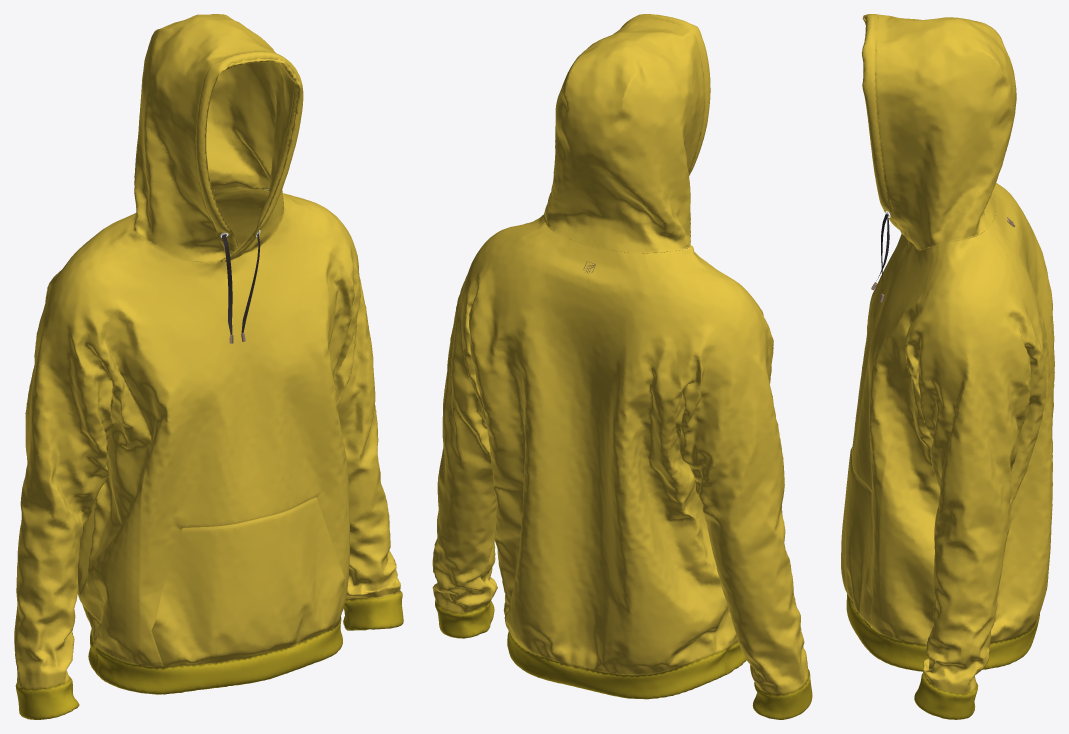
Rendered from hoodie.glb.
The picture shows the model from 3 angles, left to right: view 1: azimuth 30°, elevation 25°; view 2: azimuth 150°, elevation 25°; view 3: azimuth 270°, elevation 25°; orthographic projection. The views are drawn at different scales.
Visible parts, largest first — view 1: Object_4, Object_5, Object_9, Object_10; view 2: Object_4, Object_5, Object_9; view 3: Object_4, Object_5, Object_9.
Part boxes in pixels (bbox=[...]): Object_4: bbox=[14, 14, 354, 688]; Object_5: bbox=[15, 187, 400, 667]; Object_9: bbox=[15, 591, 403, 719]; Object_10: bbox=[222, 234, 260, 334]; Object_4: bbox=[470, 14, 808, 694]; Object_5: bbox=[432, 214, 804, 674]; Object_9: bbox=[435, 599, 812, 719]; Object_4: bbox=[852, 14, 1054, 645]; Object_5: bbox=[841, 188, 1054, 693]; Object_9: bbox=[846, 594, 1039, 719].
Bounding box in the file's own units: 0.2345 × 0.386 × 0.1207.
